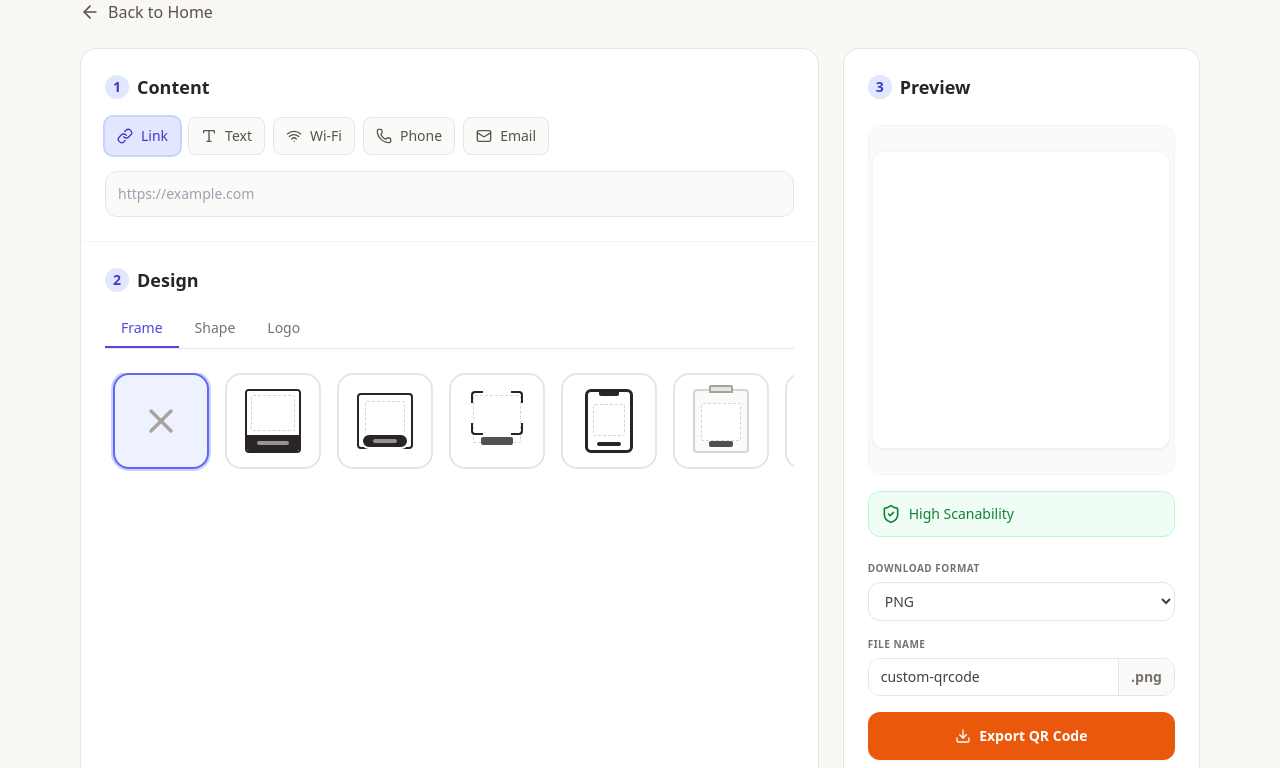
it: QR Code Creator page › creates a downloadable PNG result card
Click the button "Export QR Code". click: click(1021, 736)
box: left=868, top=712, right=1175, bottom=760
(page scrolled)
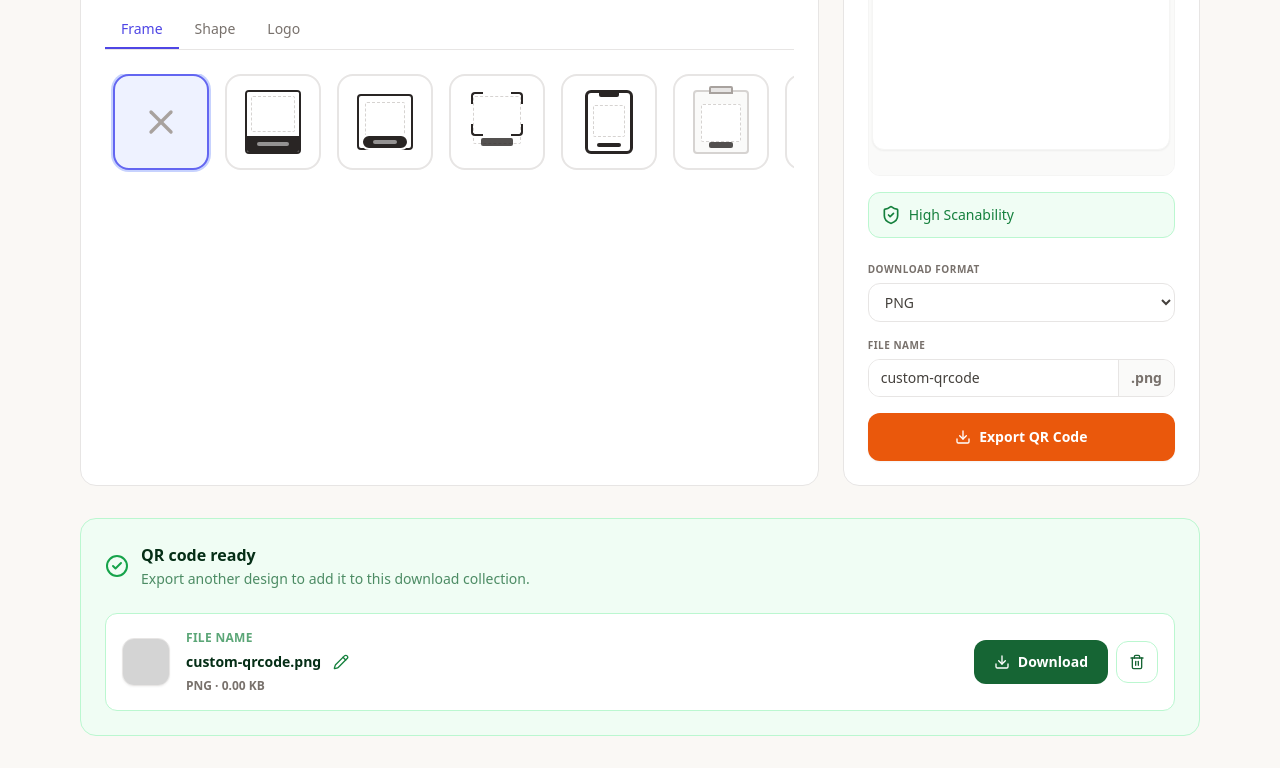
Expected: the heading "QR code ready" is shown, left=141, top=544, right=256, bottom=566
